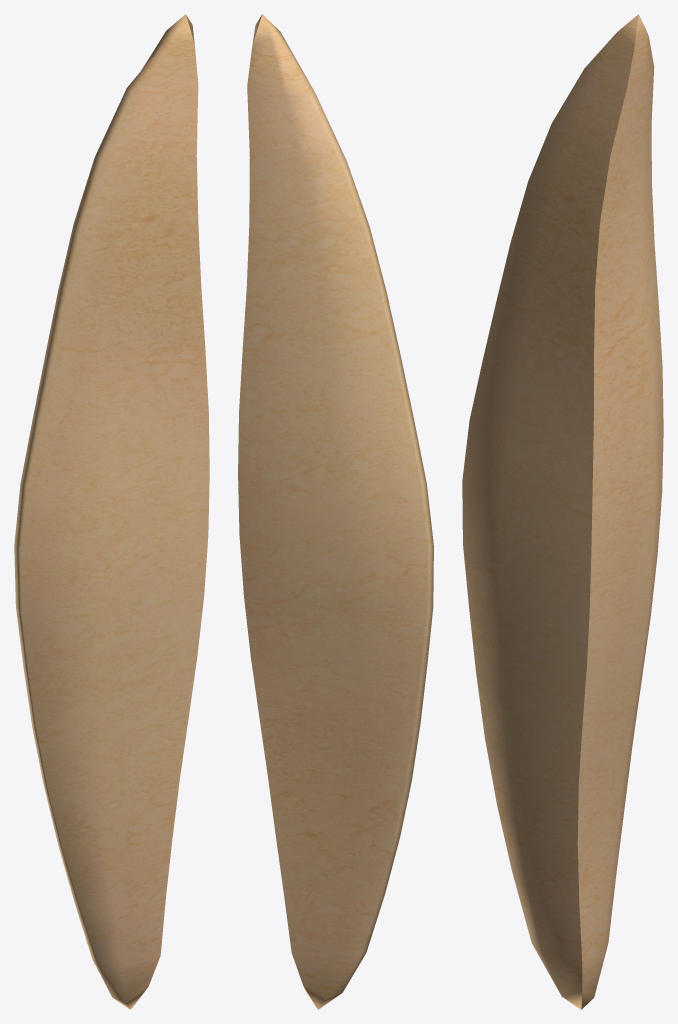
Rendered from KATSUO_BUSHI.fbx.
3 renders of one model, left to right at view 1: azimuth 30°, elevation 25°; view 2: azimuth 150°, elevation 25°; view 3: azimuth 330°, elevation 25°, orthographic. The views are drawn at different scales.
Visible parts, largest first — view 1: KATSUO_BUSHI; view 2: KATSUO_BUSHI; view 3: KATSUO_BUSHI.
Boxes of the visible parts, left/top/right/bottom form: KATSUO_BUSHI: left=14, top=14, right=209, bottom=1009; KATSUO_BUSHI: left=238, top=14, right=433, bottom=1009; KATSUO_BUSHI: left=462, top=14, right=663, bottom=1009.
Bounding box in the file's own units: 13.7 × 70.32 × 8.89.
1 material, 1 textured.
